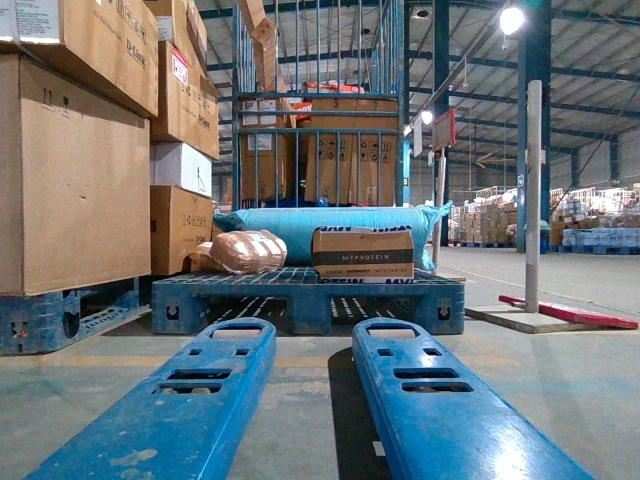block: (285, 275, 330, 335), (149, 283, 194, 335), (425, 284, 461, 334)
front: (151, 280, 463, 336)
hole pallet: (331, 291, 431, 337), (186, 295, 292, 337)
